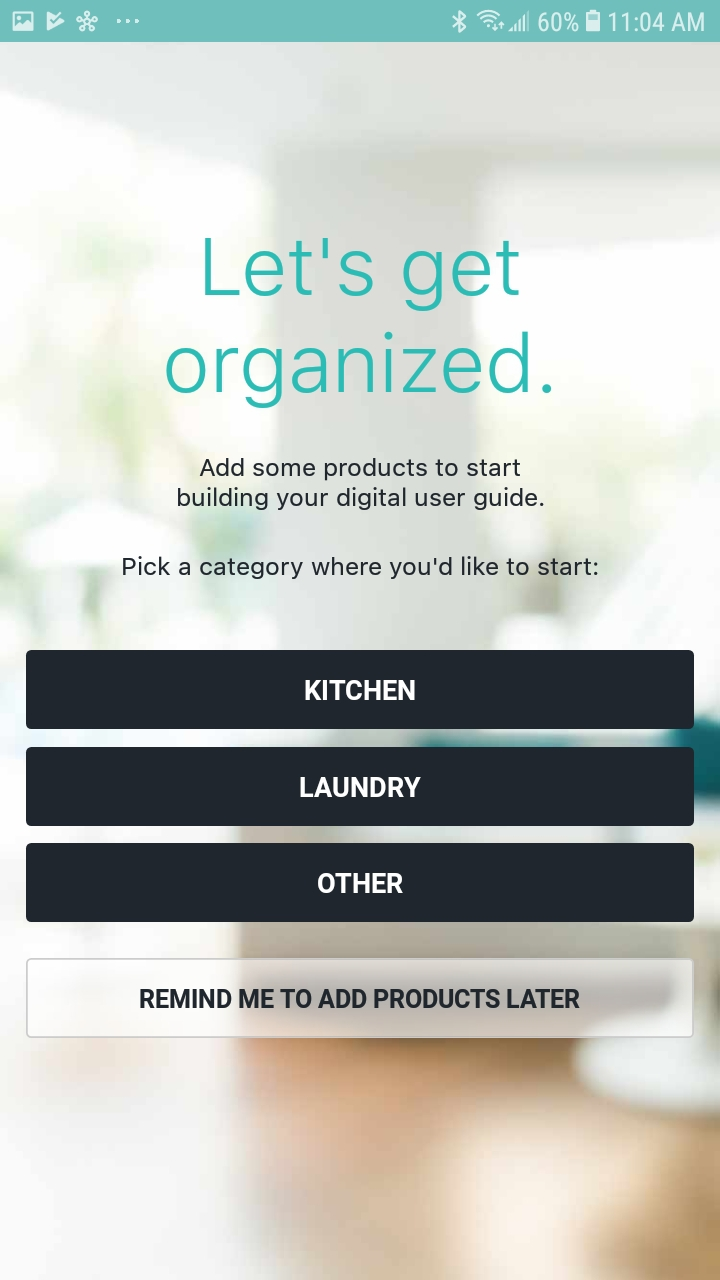BackgroundImage: (1, 44, 720, 1280)
Text: (167, 238, 551, 410), (178, 457, 544, 512), (123, 556, 598, 580)
TextButton: (26, 957, 694, 1038), (27, 843, 695, 923), (26, 747, 694, 827), (26, 650, 694, 730)
UpperTaskBar: (1, 1, 720, 43)
